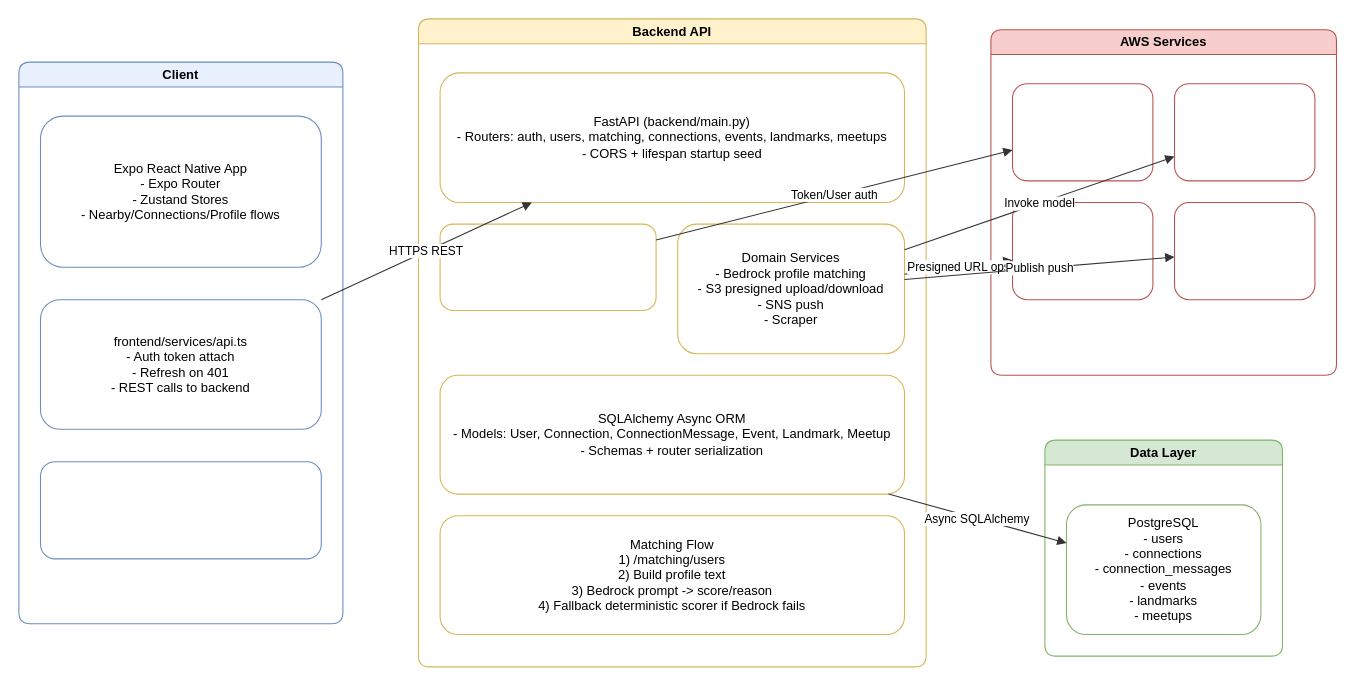
Some shapes in this 1355 by 686 pixel diagram are drawn without their labels. Here are the shapes that lost their labels. From the top down, the centre of each, then its label:
(x=1082, y=132): Cognito - Signup/Login/Refresh - Access token validation
(x=1244, y=132): Bedrock Runtime - Profile compatibility scoring - Match reason generation
(x=547, y=266): Dependencies - get_current_user() - Cognito token validation
(x=1082, y=250): S3 - Profile picture storage - Presigned URLs
(x=1244, y=250): SNS - Push notifications (service hook)
(x=180, y=510): Map UI - Android: Google Maps - iOS: Apple Maps (MapKit)
